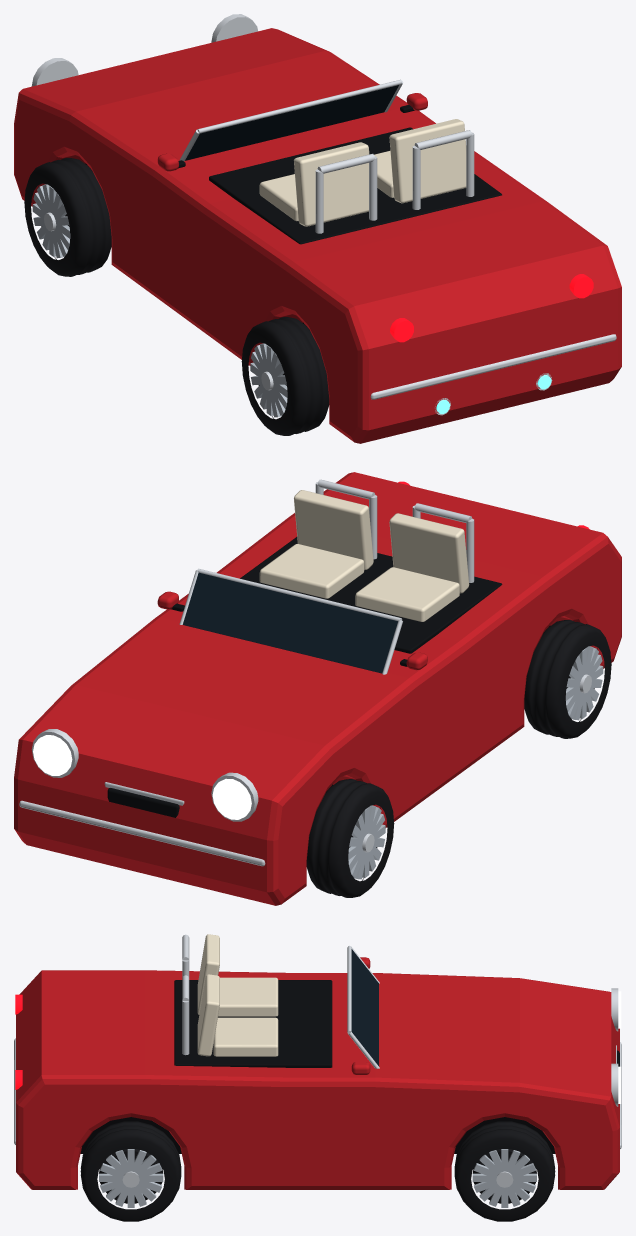
File: sundown-roadster.glb
3 renders of one model, top to bottom at view 1: azimuth 30°, elevation 25°; view 2: azimuth 150°, elevation 25°; view 3: azimuth 270°, elevation 25°, orthographic. The views are drawn at different scales.
Visible parts, largest first — view 1: Body, Tire (×2), SeatBack (×2), Cockpit, Windscreen, RearBumper, SeatBase (×2), HeadlightBezel (×2), WindscreenTop; view 2: Body, Tire (×2), Windscreen, SeatBack (×2), SeatBase (×2), Cockpit, Headlight (×2), FrontBumper, HeadlightBezel (×2), Grille, WindscreenTop; view 3: Body, Tire (×2), Cockpit, SeatBase (×2), SeatBack (×2), Windscreen, WheelWell (×2), WindscreenTop, HoopPostOut.
Part boxes in pixels (bbox=[...]): Body: bbox=[14, 28, 621, 443]; Tire (×2): bbox=[24, 158, 329, 435]; SeatBack (×2): bbox=[294, 119, 466, 226]; Cockpit: bbox=[209, 127, 501, 244]; Windscreen: bbox=[185, 85, 398, 160]; RearBumper: bbox=[370, 334, 616, 399]; SeatBase (×2): bbox=[259, 151, 393, 221]; HeadlightBezel (×2): bbox=[31, 14, 257, 86]; WindscreenTop: bbox=[197, 79, 401, 133]; Body: bbox=[14, 472, 621, 905]; Tire (×2): bbox=[306, 620, 611, 897]; Windscreen: bbox=[182, 572, 397, 673]; SeatBack (×2): bbox=[294, 490, 469, 593]; SeatBase (×2): bbox=[259, 544, 459, 621]; Cockpit: bbox=[240, 537, 502, 653]; Headlight (×2): bbox=[33, 735, 251, 819]; FrontBumper: bbox=[19, 800, 265, 866]; HeadlightBezel (×2): bbox=[31, 729, 258, 821]; Grille: bbox=[107, 788, 179, 817]; WindscreenTop: bbox=[197, 568, 402, 621]; Body: bbox=[16, 970, 619, 1189]; Tire (×2): bbox=[80, 1121, 555, 1221]; Cockpit: bbox=[174, 980, 332, 1067]; SeatBase (×2): bbox=[213, 977, 278, 1056]; SeatBack (×2): bbox=[197, 934, 219, 1056]; Windscreen: bbox=[351, 949, 378, 1065]; WheelWell (×2): bbox=[80, 1117, 555, 1153]; WindscreenTop: bbox=[347, 945, 351, 1033]; HoopPostOut: bbox=[182, 1001, 189, 1055].
Bounding box in the file's own units: 2.22 × 1.47 × 4.23.
